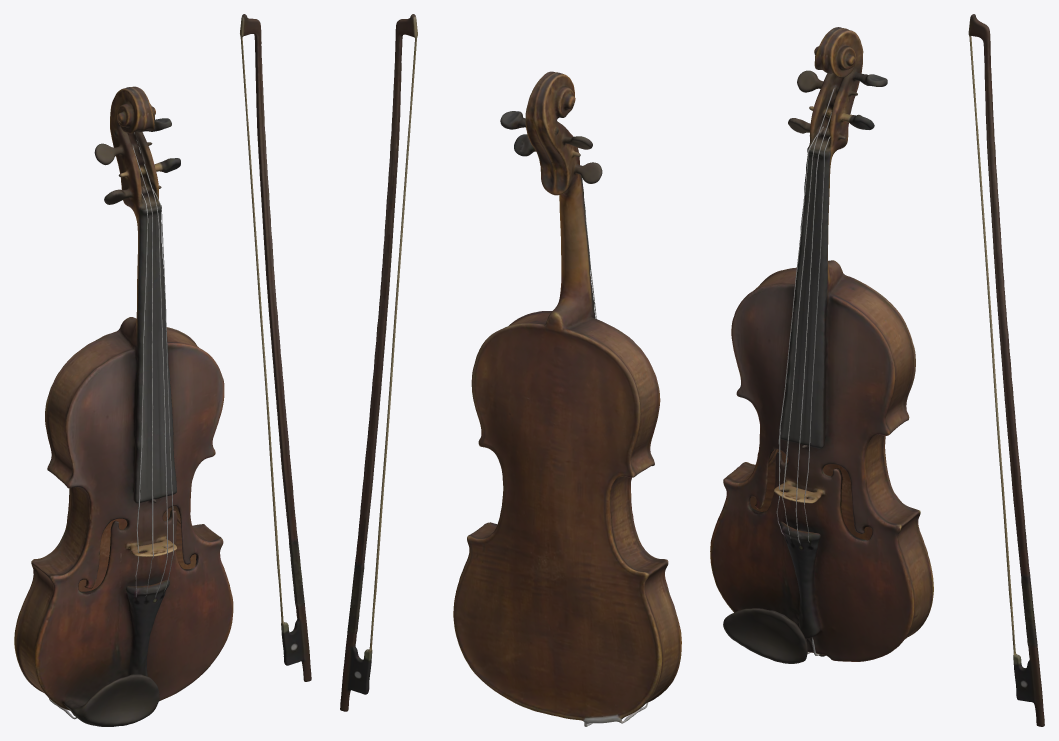
File: violin.glb
3 views of the same model, side by side, from view 1: azimuth 30°, elevation 25°; view 2: azimuth 150°, elevation 25°; view 3: azimuth 330°, elevation 25° (orthographic). The views are drawn at different scales.
Parts seen in each view (by area): view 1: Object_2; view 2: Object_2; view 3: Object_2.
Part boxes in pixels (x1=…): Object_2: x1=14, y1=14, x2=311, y2=726; Object_2: x1=340, y1=14, x2=681, y2=726; Object_2: x1=710, y1=14, x2=1044, y2=726.
Size of the model in its own units: 1.36 by 2.94 by 0.4085.
Materials: 1 (1 with a texture image).
